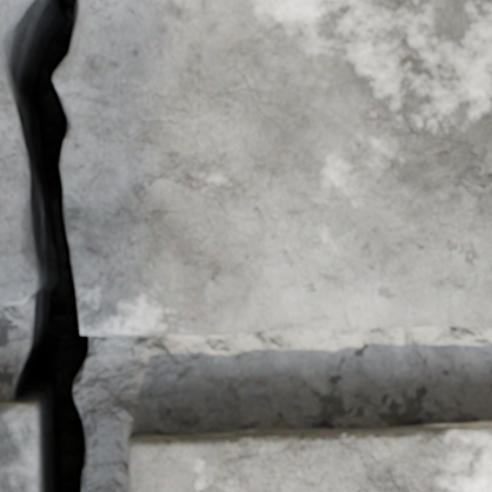brick: (129, 422, 491, 491), (0, 402, 40, 491)
broken_brick: (54, 0, 491, 337), (0, 52, 35, 308), (0, 0, 17, 40)
crack: (0, 0, 93, 491)
